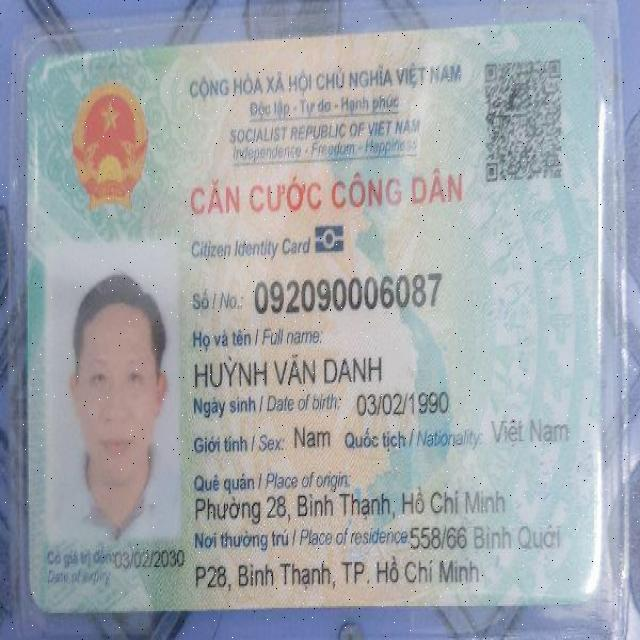current_place: (193, 556, 482, 590), (407, 521, 563, 553)
dob: (357, 392, 451, 416)
expire_date: (113, 542, 186, 571)
gender: (292, 424, 333, 451)
id: (254, 270, 444, 311)
name: (190, 352, 391, 388)
nationality: (487, 400, 576, 447)
origin_place: (192, 489, 508, 525)
